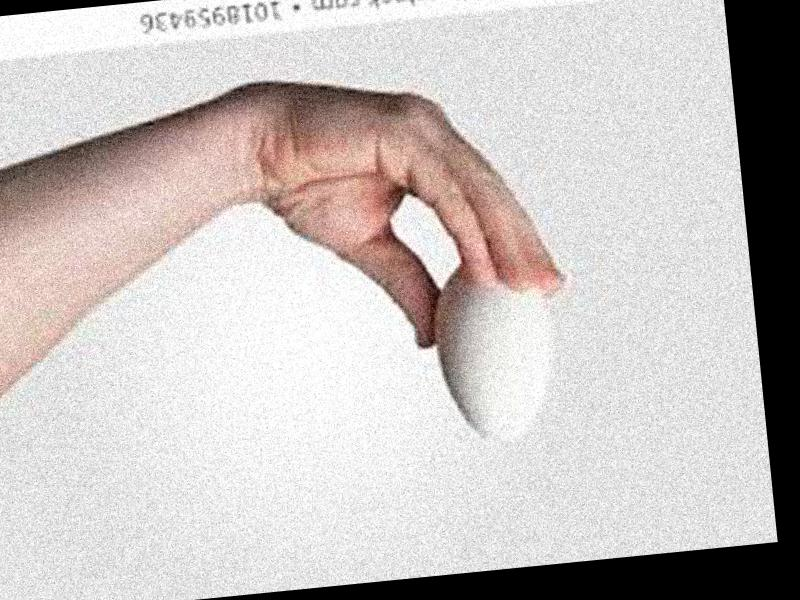Eggs: (428, 253, 566, 450)
